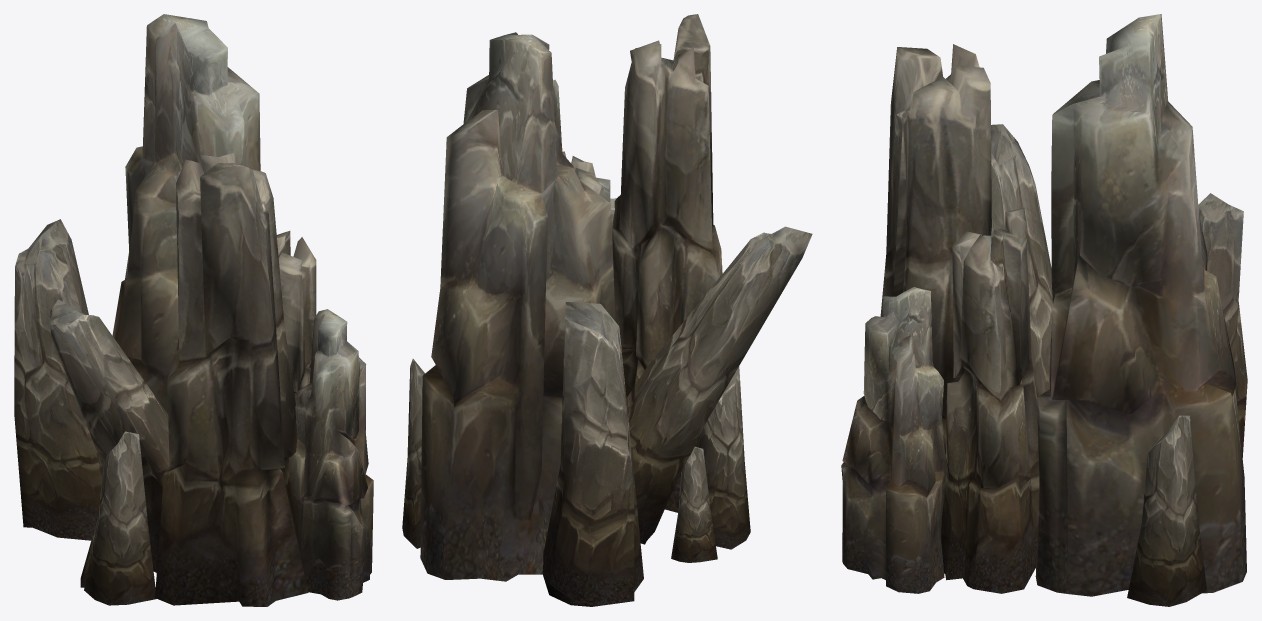
File: borean_rocklarge_03.obj
3 renders of one model, left to right at view 1: azimuth 30°, elevation 25°; view 2: azimuth 150°, elevation 25°; view 3: azimuth 270°, elevation 25°, orthographic. The views are drawn at different scales.
Visible parts, largest first — view 1: Geoset0, Geoset1, Geoset2; view 2: Geoset1, Geoset2, Geoset0; view 3: Geoset1, Geoset0, Geoset2.
Boxes of the visible parts, <box> form: Geoset0: <box>155,152,316,606</box>; Geoset1: <box>112,14,373,600</box>; Geoset2: <box>14,219,169,605</box>; Geoset1: <box>420,32,616,581</box>; Geoset2: <box>402,226,812,606</box>; Geoset0: <box>562,14,722,512</box>; Geoset1: <box>841,14,1246,596</box>; Geoset0: <box>880,44,1039,593</box>; Geoset2: <box>991,124,1247,606</box>.
Size of the model in its own units: 7.12 by 11.21 by 7.51.
3 materials, 3 textured.
